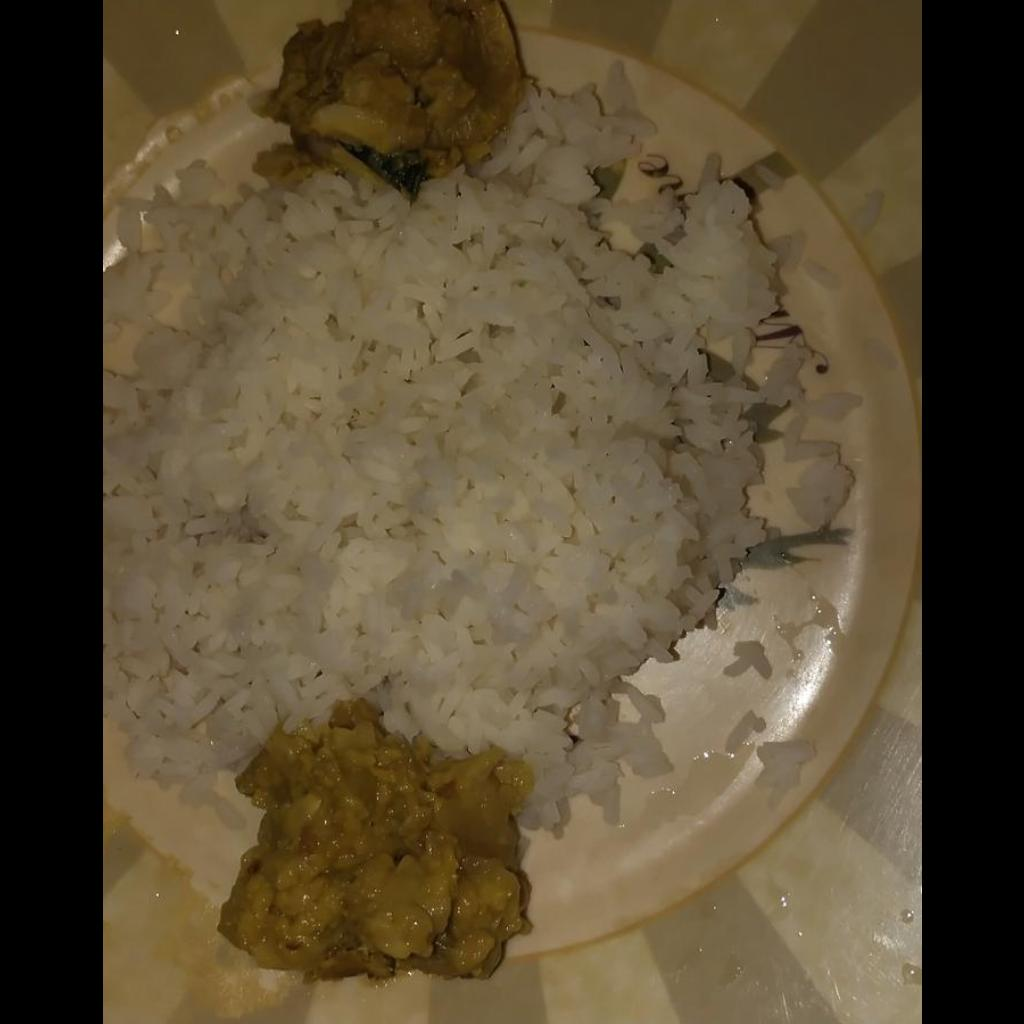daal: (221, 696, 535, 983)
rice: (103, 76, 857, 836)
